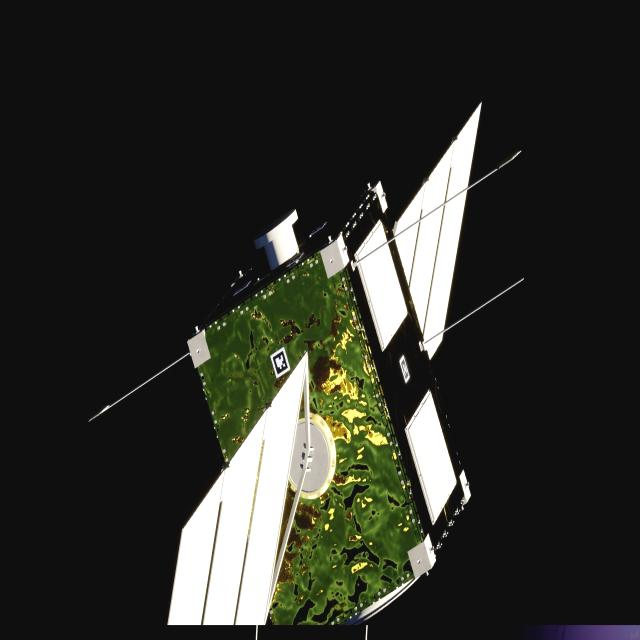medium_debris: (167, 110, 480, 629)
